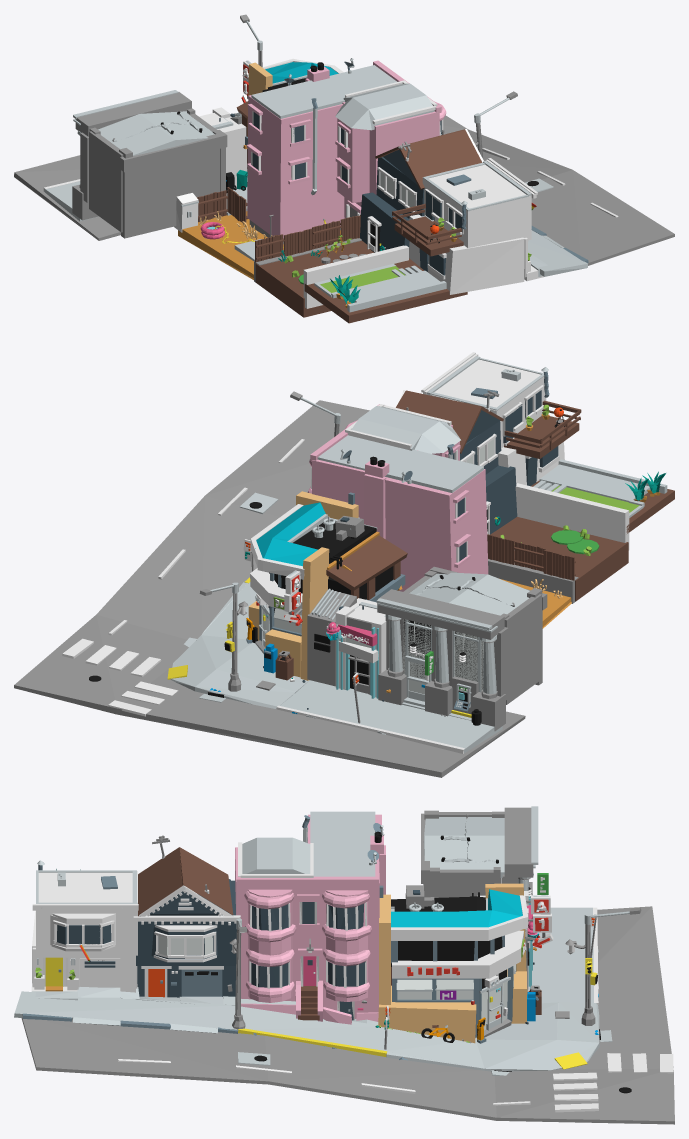
Rendered from RoadSide1.fbx.
3 renders of one model, top to bottom at view 1: azimuth 30°, elevation 25°; view 2: azimuth 150°, elevation 25°; view 3: azimuth 270°, elevation 25°, orthographic. The views are drawn at different scales.
Visible parts, largest first — view 1: g mesh892455447, g mesh1855824391, g mesh284740563, g mesh247688703, g mesh562006303, g mesh1933068889, g mesh522730016, g mesh1350899225, g mesh1421539807, g mesh1348016452, g mesh1667746924, g mesh1583477956 (+24 smaller); view 2: g mesh892455447, g mesh1855824391, g mesh1105155231, g mesh1179754258, g mesh1933068889, g mesh998772054, g mesh1350899225, g mesh247688703, g mesh522730016, g mesh1421539807, g mesh1348016452, g mesh180261774 (+37 smaller); view 3: g mesh892455447, g mesh1105155231, g mesh1583477956, g mesh247688703, g mesh1179754258, g mesh1933068889, g mesh522730016, g mesh1983641924, g mesh1671810338, g mesh1362634429, g mesh290091007, g mesh1348016452 (+40 smaller).
Part boxes in pixels (<box>): g mesh892455447: <box>14,115,674,265</box>; g mesh1855824391: <box>247,95,344,238</box>; g mesh284740563: <box>121,149,219,238</box>; g mesh247688703: <box>422,164,531,247</box>; g mesh562006303: <box>409,214,524,294</box>; g mesh1933068889: <box>251,65,396,118</box>; g mesh522730016: <box>98,111,214,155</box>; g mesh1350899225: <box>255,240,373,317</box>; g mesh1421539807: <box>89,131,123,232</box>; g mesh1348016452: <box>335,83,434,130</box>; g mesh1667746924: <box>399,130,481,189</box>; g mesh1583477956: <box>342,102,439,218</box>; g mesh892455447: <box>14,400,525,777</box>; g mesh1855824391: <box>384,469,488,591</box>; g mesh1105155231: <box>170,582,309,708</box>; g mesh1179754258: <box>280,680,502,753</box>; g mesh1933068889: <box>317,435,483,492</box>; g mesh998772054: <box>515,483,629,550</box>; g mesh1350899225: <box>490,517,628,601</box>; g mesh247688703: <box>427,359,546,448</box>; g mesh522730016: <box>409,572,529,615</box>; g mesh1421539807: <box>504,594,541,704</box>; g mesh1348016452: <box>351,406,460,453</box>; g mesh180261774: <box>377,589,504,639</box>; g mesh892455447: <box>21,906,674,1124</box>; g mesh1105155231: <box>14,991,599,1071</box>; g mesh1583477956: <box>235,847,379,1018</box>; g mesh247688703: <box>36,871,137,955</box>; g mesh1179754258: <box>527,907,593,1003</box>; g mesh1933068889: <box>310,811,375,876</box>; g mesh522730016: <box>423,817,504,877</box>; g mesh1983641924: <box>378,985,476,1043</box>; g mesh1671810338: <box>391,896,502,966</box>; g mesh1362634429: <box>391,889,522,927</box>; g mesh290091007: <box>392,930,523,978</box>; g mesh1348016452: <box>242,837,310,873</box>.
Bounding box in the file's own units: 243 × 99.06 × 319.
